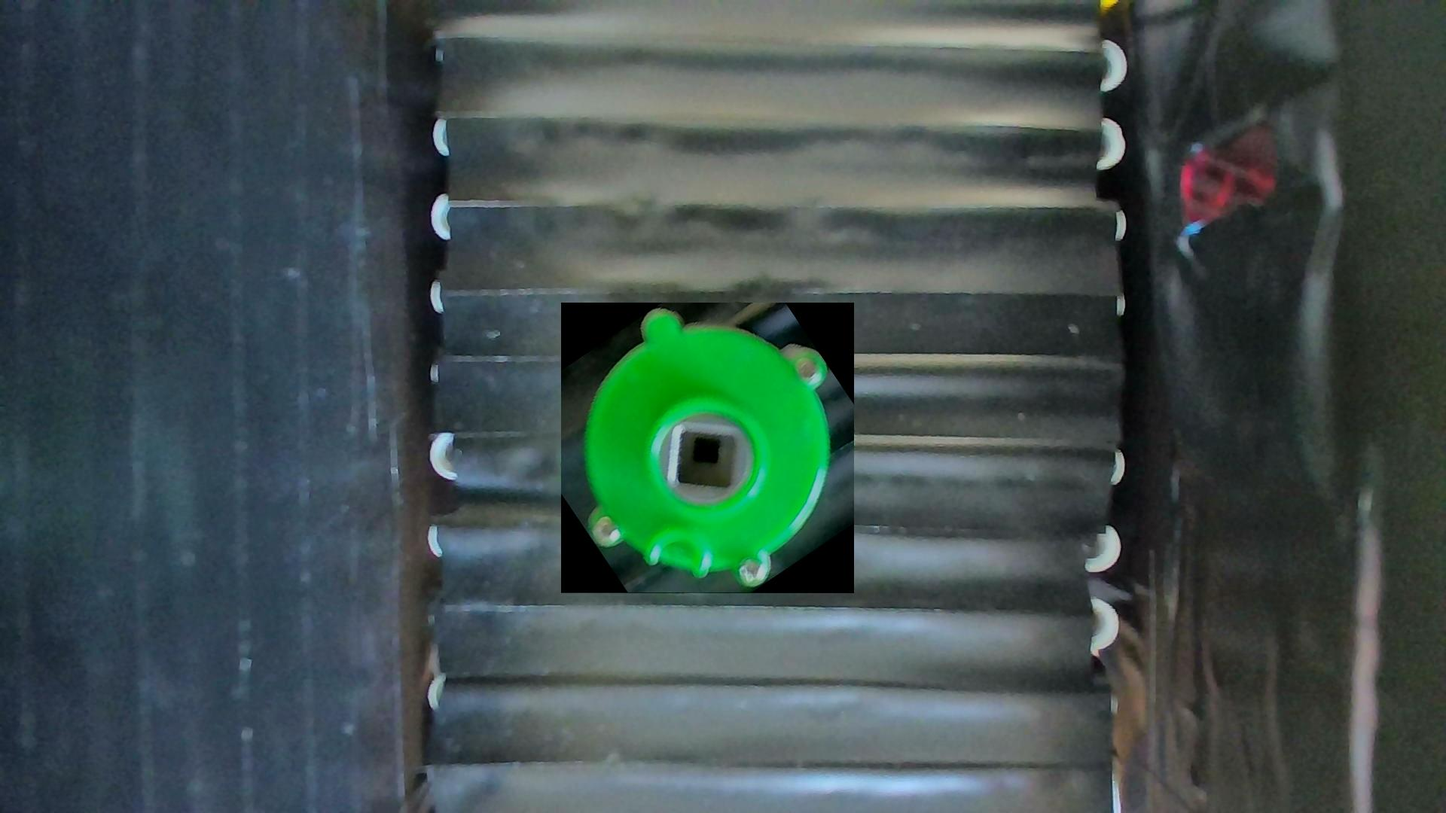cartridge: (561, 303, 854, 594)
